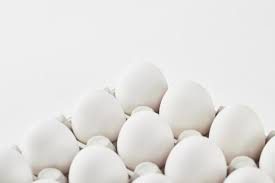eggs: (58, 77, 124, 135), (166, 122, 223, 183), (109, 57, 169, 107), (117, 114, 175, 164), (216, 100, 263, 160), (61, 141, 123, 183), (13, 119, 74, 161), (160, 84, 208, 128)
